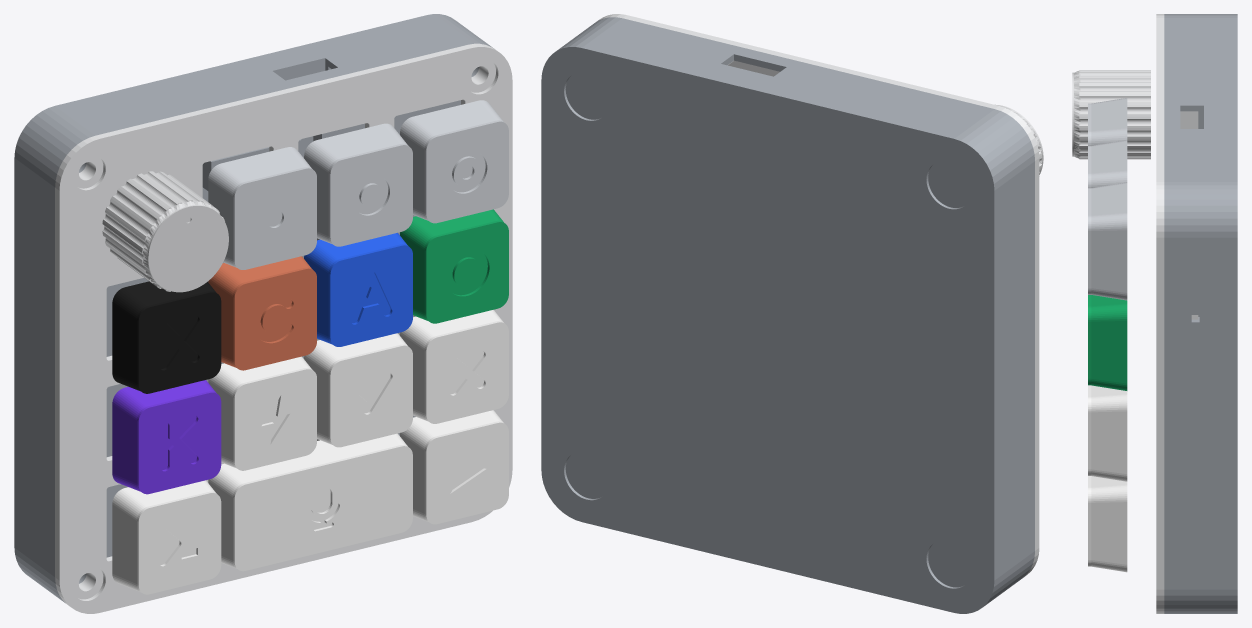
Rendered from orchestrator-pad-assembled.glb.
The picture shows the model from 3 angles, left to right: view 1: azimuth 30°, elevation 25°; view 2: azimuth 150°, elevation 25°; view 3: azimuth 270°, elevation 25°; orthographic projection. The views are drawn at different scales.
Parts seen in each view (by area): view 1: plate, tray, voice, knob, kiro, prompt, codex, preset2, preset3, preset1, opencode, claude (+5 smaller); view 2: tray, plate; view 3: tray, plate, knob, preset3, reject, send, opencode, preset1, preset2.
Boxes of the visible parts, x1,y1,x2,y2 form: plate: [55, 43, 512, 613]; tray: [14, 14, 493, 603]; voice: [208, 433, 412, 571]; knob: [102, 171, 228, 292]; kiro: [112, 380, 221, 494]; prompt: [112, 480, 221, 594]; codex: [112, 281, 221, 393]; preset2: [304, 123, 412, 246]; preset3: [400, 100, 508, 223]; preset1: [208, 147, 316, 269]; opencode: [400, 209, 508, 323]; claude: [208, 256, 316, 370]; tray: [541, 17, 1034, 613]; plate: [596, 14, 1039, 576]; tray: [1164, 14, 1237, 613]; plate: [1156, 14, 1198, 613]; knob: [1072, 70, 1150, 159]; preset3: [1088, 182, 1127, 300]; reject: [1088, 385, 1127, 481]; send: [1088, 476, 1127, 572]; opencode: [1088, 295, 1127, 390]; preset1: [1088, 98, 1127, 145]; preset2: [1088, 140, 1127, 187].
Size of the model in its own units: 90 by 90 by 31.5.
